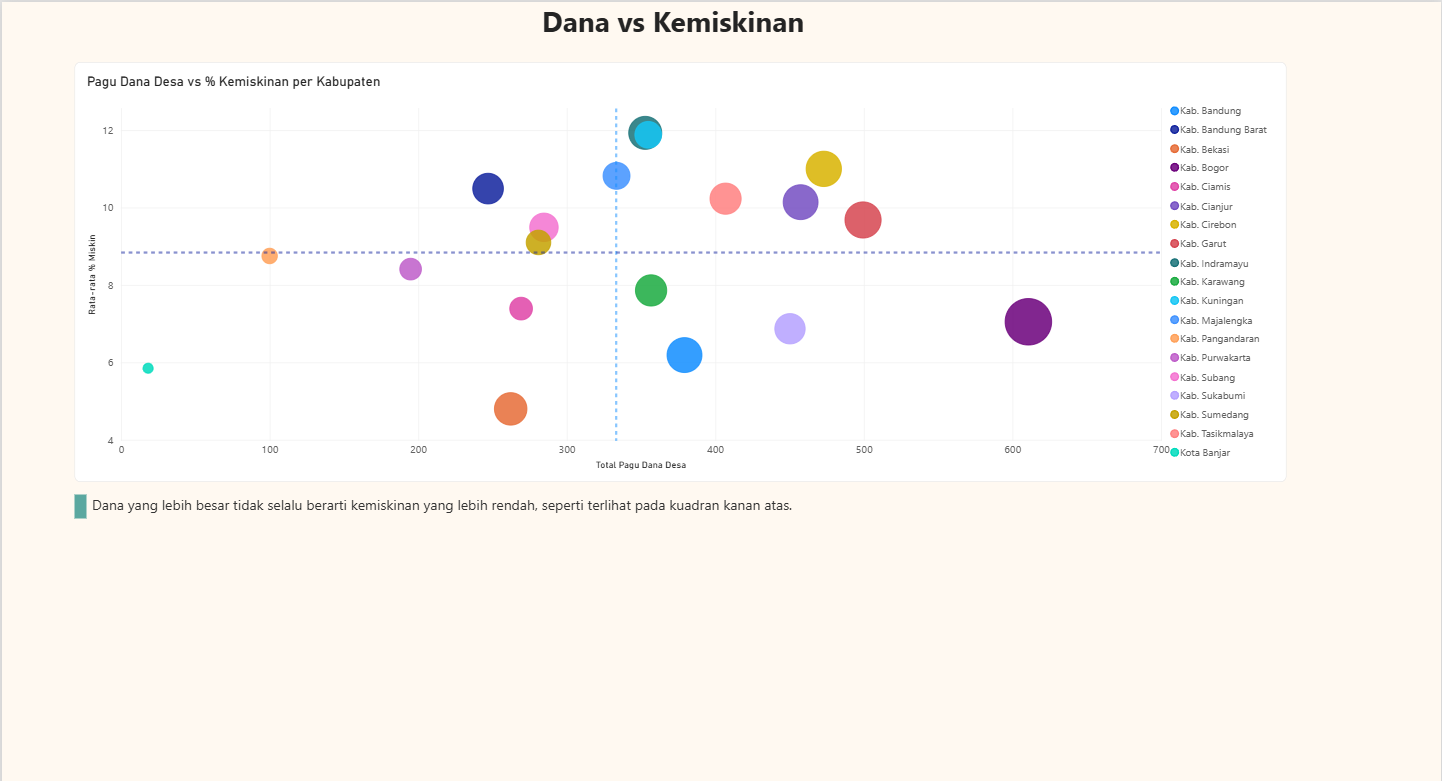

Layout of this report page (visuals, bound fields, positions):
{"tool":"powerbi","page":{"name":"Dana vs Kemiskinan","canvas":[1920,1080],"ordinal":1},"visuals":[{"type":"scatterChart","fields":{"Series":["Dim_Kabupaten.Nama_Kab"],"Size":["Sum(Kemiskinan_BPS_2024.Jml_Penduduk_Miskin_Ribu)"],"X":["Dana_Desa_2024.Total Pagu Dana Desa"],"Y":["Kemiskinan_BPS_2024.Rata-rata % Miskin"]},"box":[10.5,0,1909.9,422.1],"z":0}]}

Visuals, with their boxes on the page's 1920x1080 design canvas (x1, y1, x2, y2). These are canvas units, not pixel positions in the 1442x781 screenshot, which may show the page scaled, cropped or inside an application window:
scatterChart - Dim_Kabupaten.Nama_Kab x Sum(Kemiskinan_BPS_2024.Jml_Penduduk_Miskin_Ribu): x1=10, y1=0, x2=1920, y2=422
